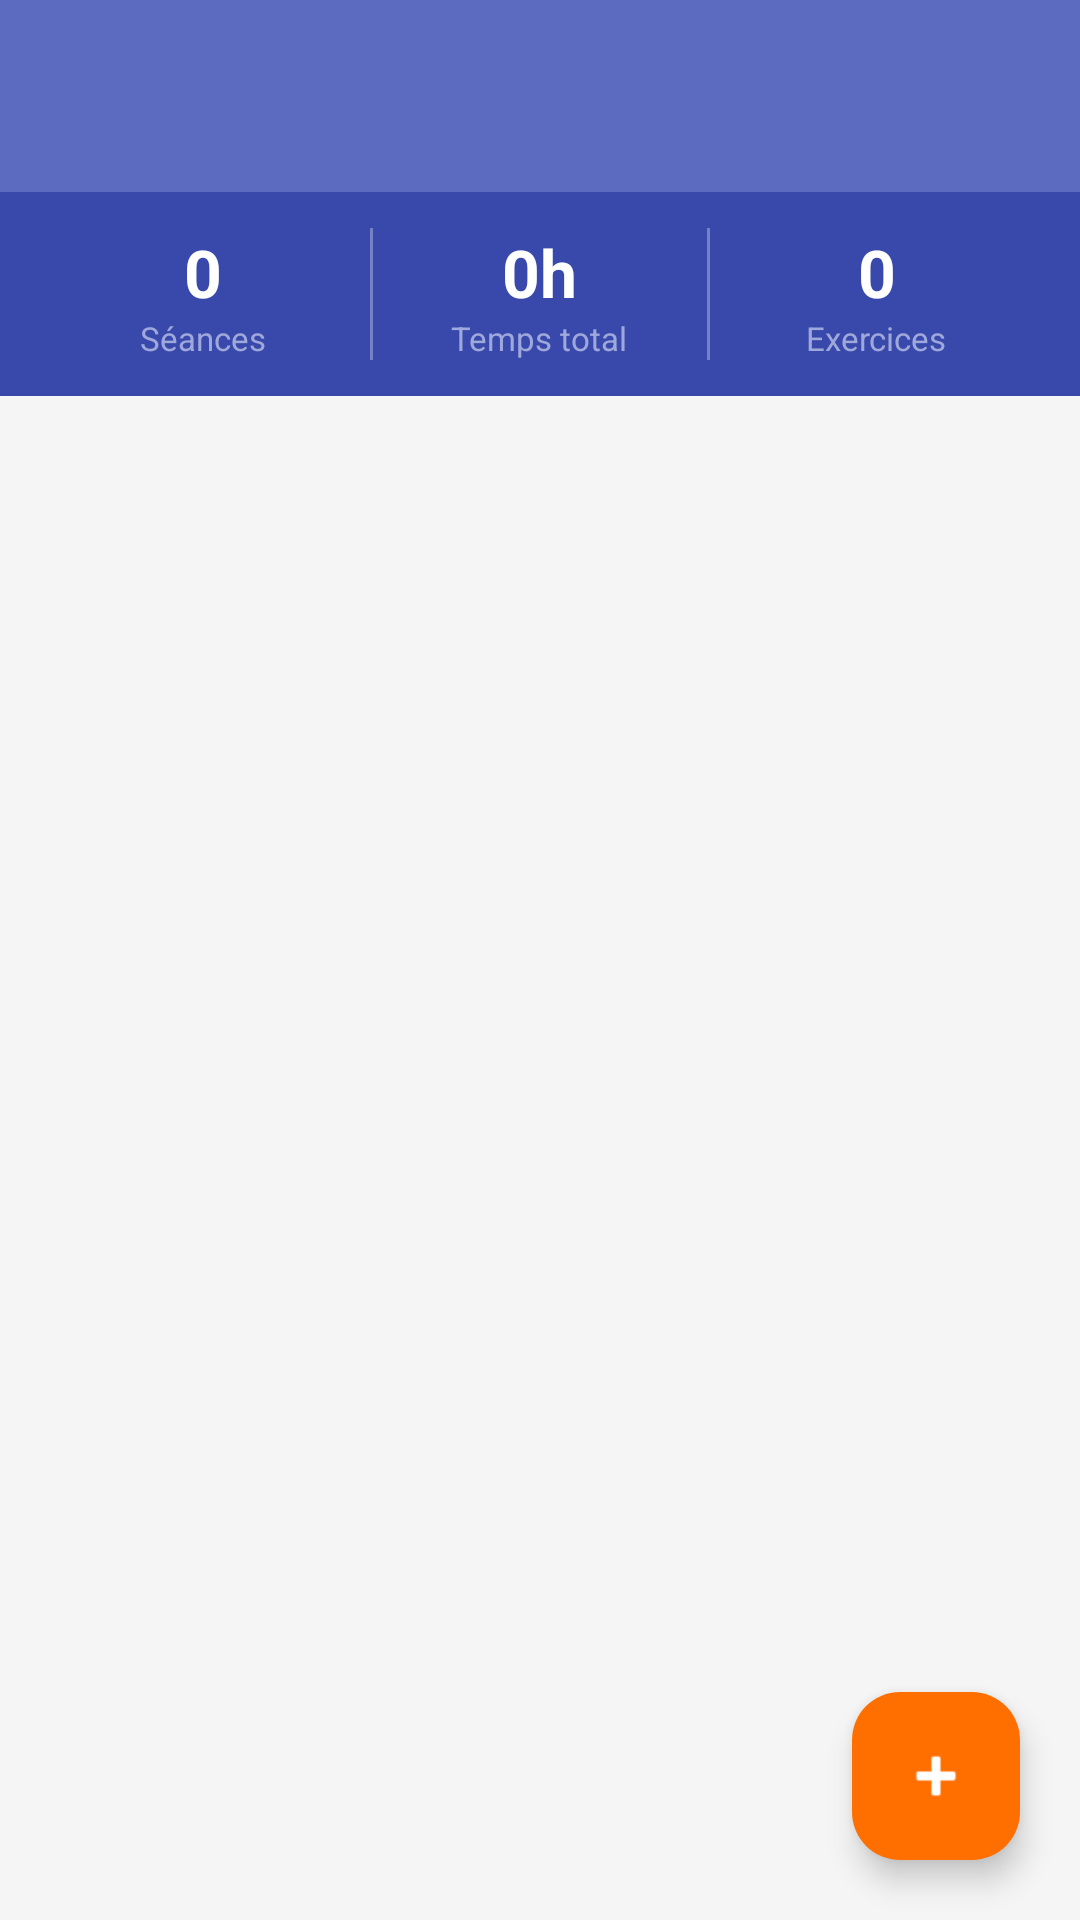

Screen size 1080 x 1920. Icon name, then its box in pixels as (x1, y1, x2, y2):
Nouvelle séance: (852, 1692, 1020, 1860)
